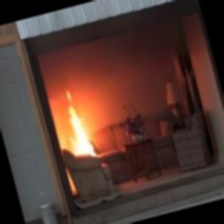fire: (46, 85, 98, 155)
